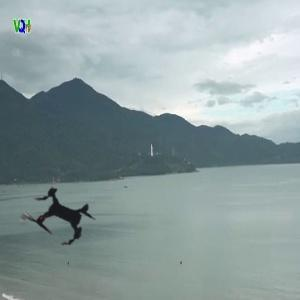drone: (6, 164, 116, 274)
